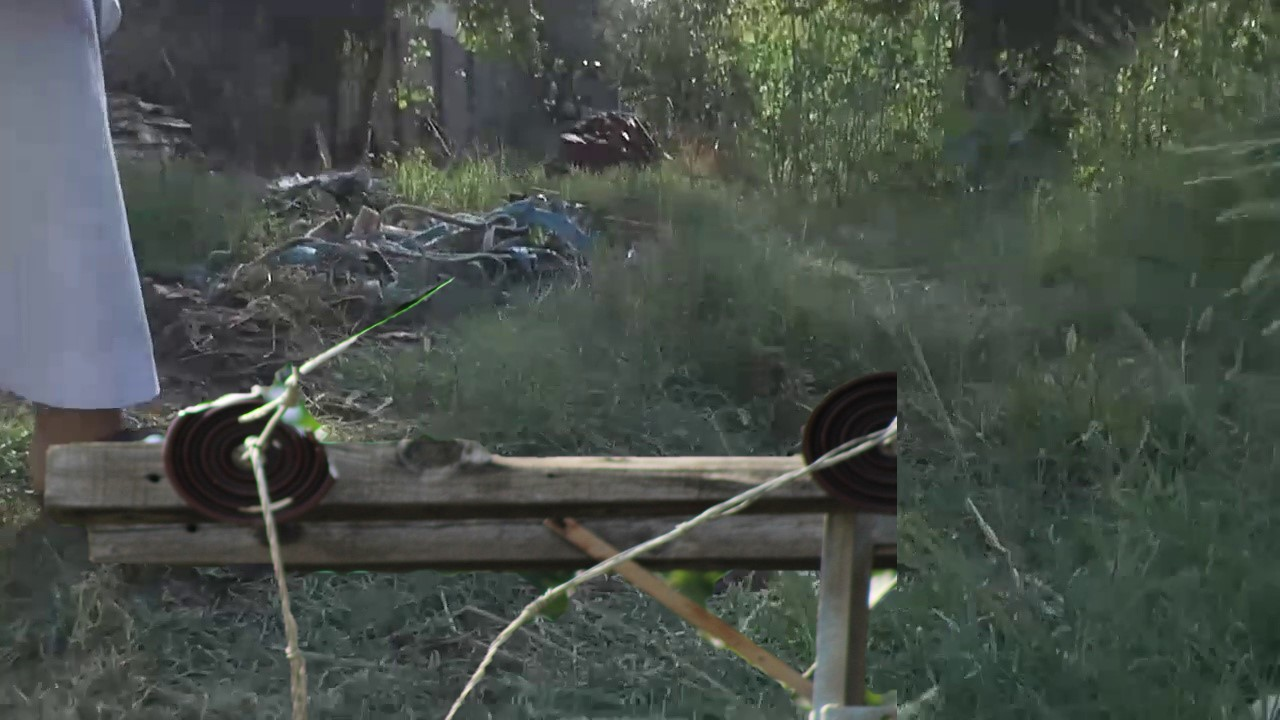defect_disc: (156, 381, 344, 534)
